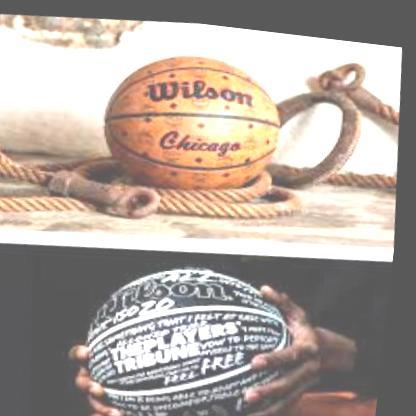basketball: (78, 246, 322, 416), (95, 37, 291, 201)
